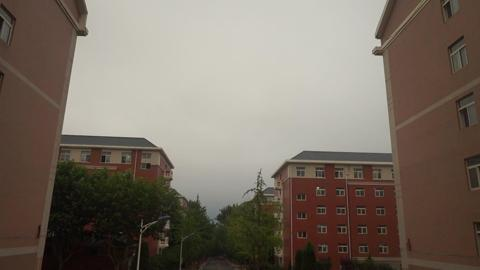UAV: (344, 173, 350, 176)
